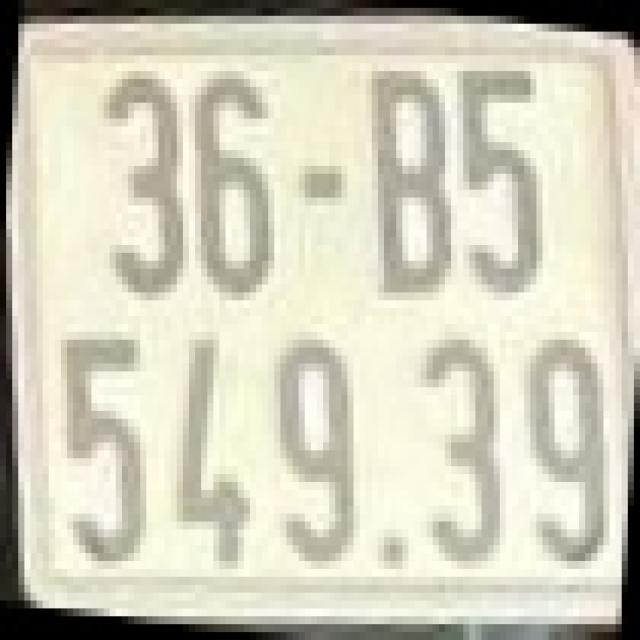3: (97, 71, 189, 300), (414, 332, 506, 561)
4: (171, 332, 250, 569)
5: (55, 324, 152, 569), (457, 64, 549, 292)
6: (189, 63, 280, 300)
9: (524, 332, 610, 561), (274, 332, 360, 561)
B: (366, 63, 457, 300)
